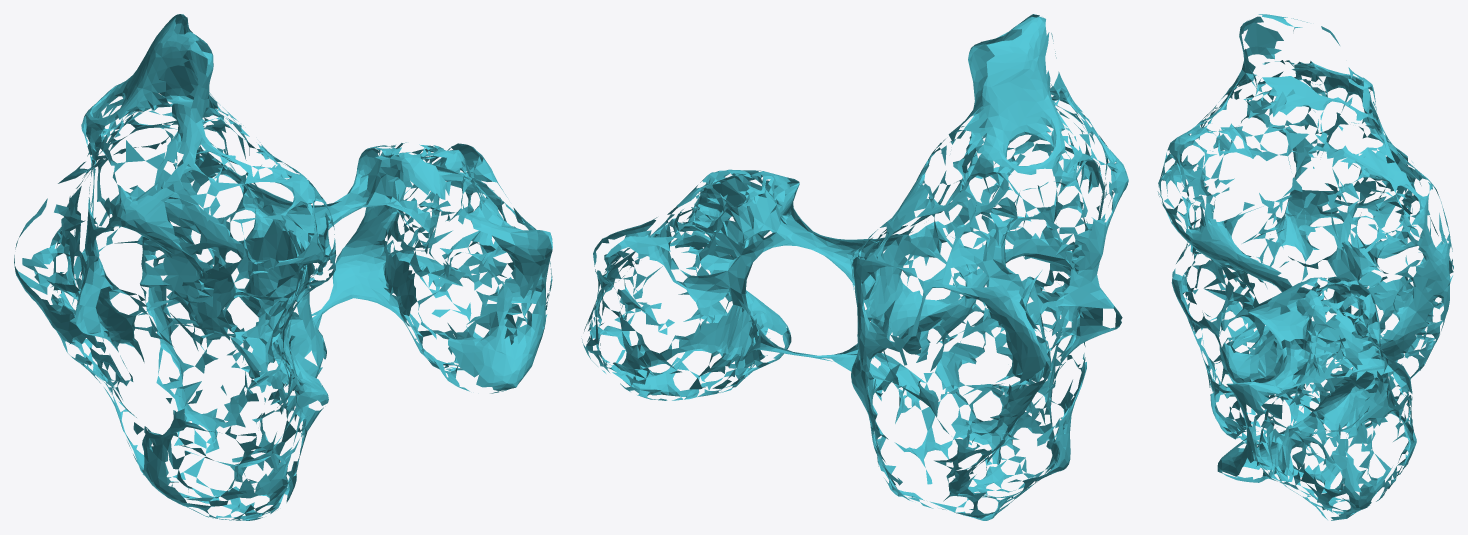
The picture shows the model from 3 angles, left to right: view 1: azimuth 30°, elevation 25°; view 2: azimuth 150°, elevation 25°; view 3: azimuth 270°, elevation 25°; orthographic projection. The views are drawn at different scales.
Parts seen in each view (by area): view 1: Renderer Node; view 2: Renderer Node; view 3: Renderer Node.
Boxes of the visible parts, <box> form: Renderer Node: <box>14,14,552,520</box>; Renderer Node: <box>581,14,1128,520</box>; Renderer Node: <box>1157,14,1453,520</box>.
Bounding box in the file's own units: 1.36 × 1.26 × 0.8271.
Materials: 1 (1 with a texture image).
